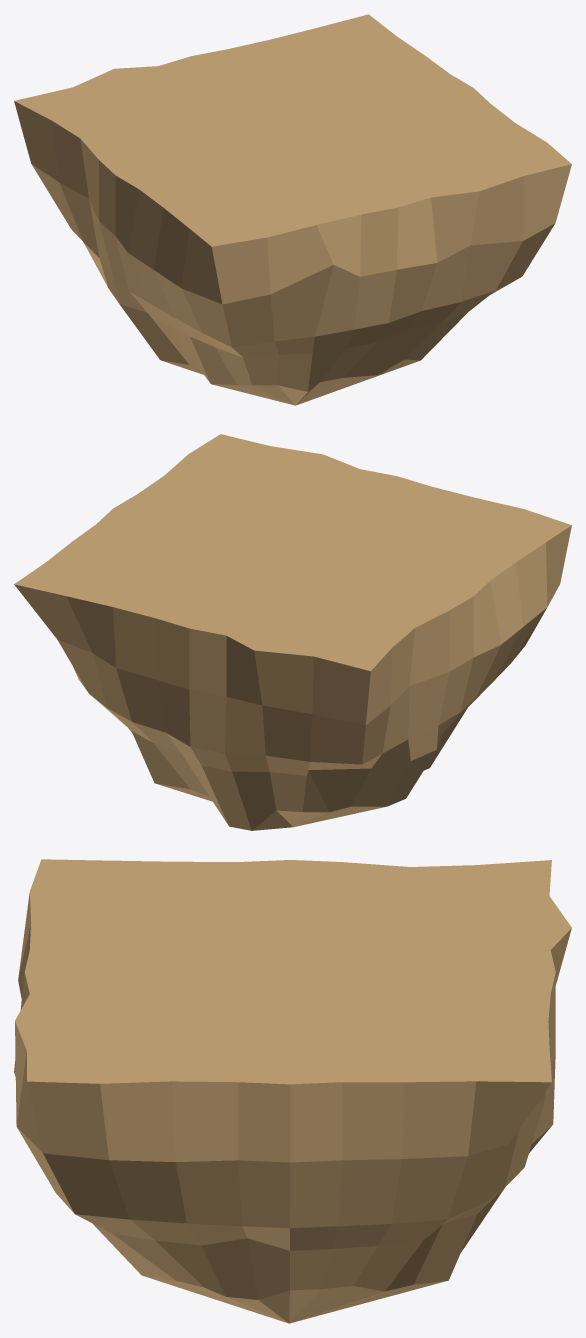
File: Island2.fbx
3 renders of one model, top to bottom at view 1: azimuth 30°, elevation 25°; view 2: azimuth 150°, elevation 25°; view 3: azimuth 270°, elevation 25°, orthographic. The views are drawn at different scales.
Visible parts, largest first — view 1: Island(Cubic); view 2: Island(Cubic); view 3: Island(Cubic).
Part boxes in pixels (left/top/right/bottom): Island(Cubic): left=14, top=14, right=571, bottom=405; Island(Cubic): left=14, top=434, right=571, bottom=830; Island(Cubic): left=14, top=859, right=571, bottom=1323.
Size of the model in its own units: 6127 by 4380 by 6304.
